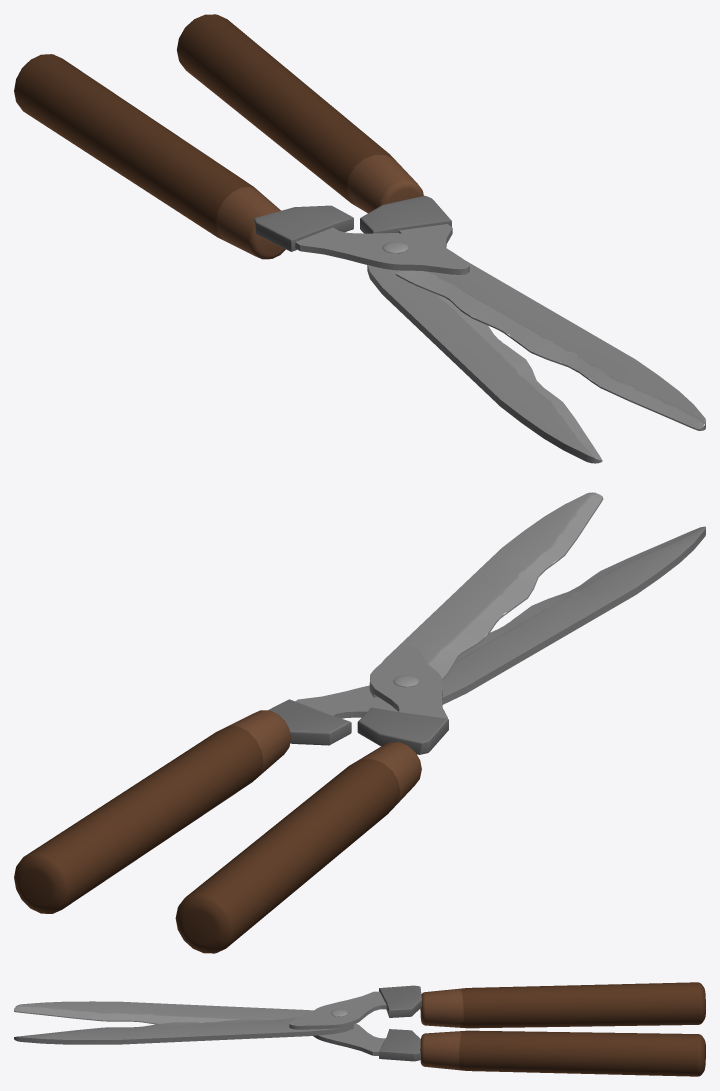
Rendered from gunting.fbx.
The picture shows the model from 3 angles, top to bottom: view 1: azimuth 30°, elevation 25°; view 2: azimuth 150°, elevation 25°; view 3: azimuth 270°, elevation 25°; orthographic projection. The views are drawn at different scales.
Visible parts, largest first — view 1: guting; view 2: guting; view 3: guting.
Boxes of the visible parts, x1,y1,x2,y2 form: guting: (14,14,705,463); guting: (14,492,705,953); guting: (14,982,705,1076).
Size of the model in its own units: 4.57 by 1.18 by 19.15.
Materials: 1 (1 with a texture image).
